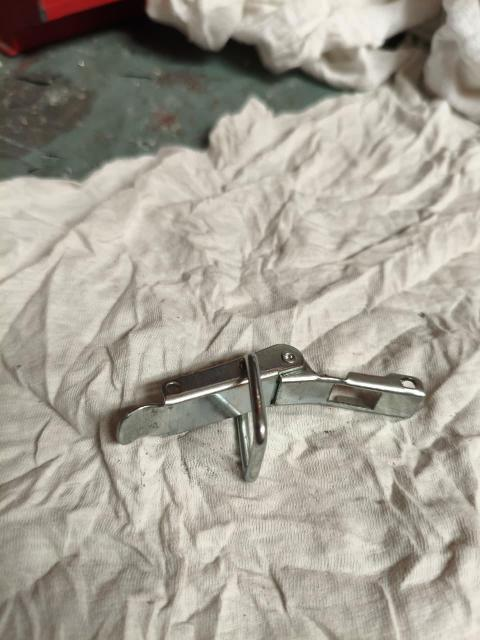Metal: (123, 348, 433, 467)
